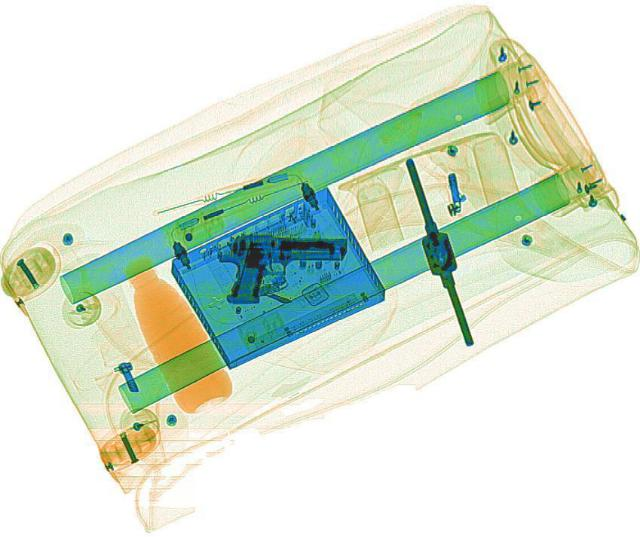Gun: (214, 231, 346, 306)
